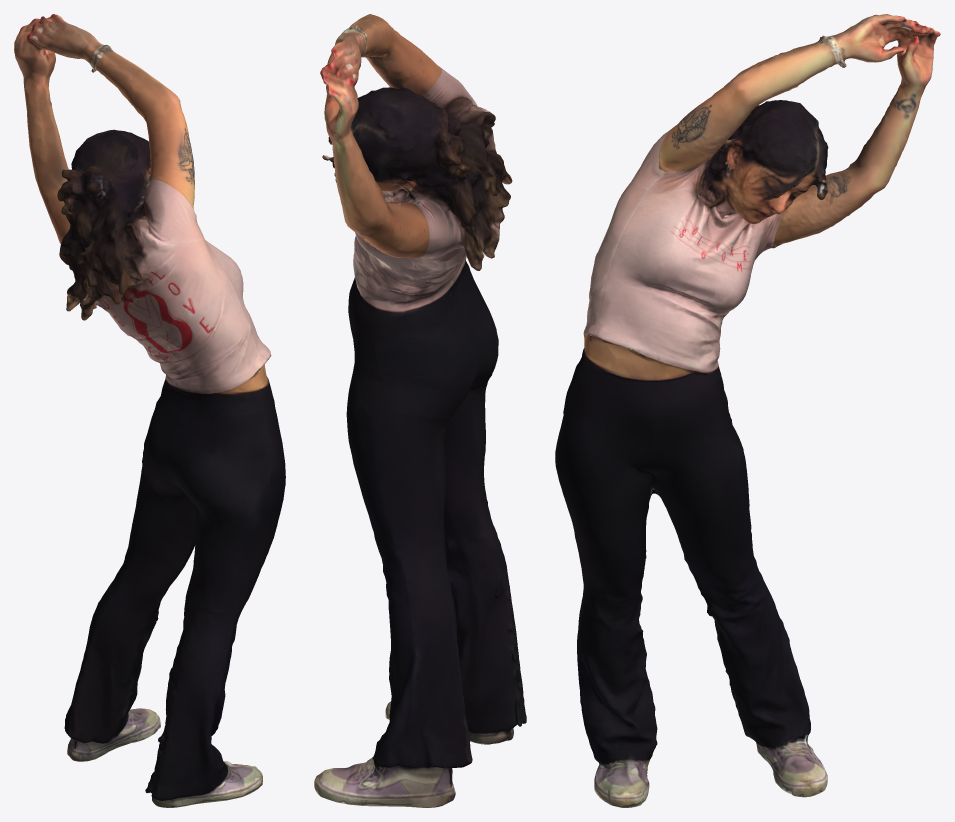
3 views of the same model, side by side, from view 1: azimuth 30°, elevation 25°; view 2: azimuth 150°, elevation 25°; view 3: azimuth 270°, elevation 25° (orthographic). The views are drawn at different scales.
Parts seen in each view (by area): view 1: 7b51f75_00522; view 2: 7b51f75_00522; view 3: 7b51f75_00522.
Boxes of the visible parts, x1=… form: 7b51f75_00522: x1=14, y1=14, x2=285, y2=807; 7b51f75_00522: x1=314, y1=14, x2=526, y2=807; 7b51f75_00522: x1=555, y1=14, x2=940, y2=807.
Bounding box in the file's own units: 383 × 1637 × 762.
Materials: 1 (1 with a texture image).
